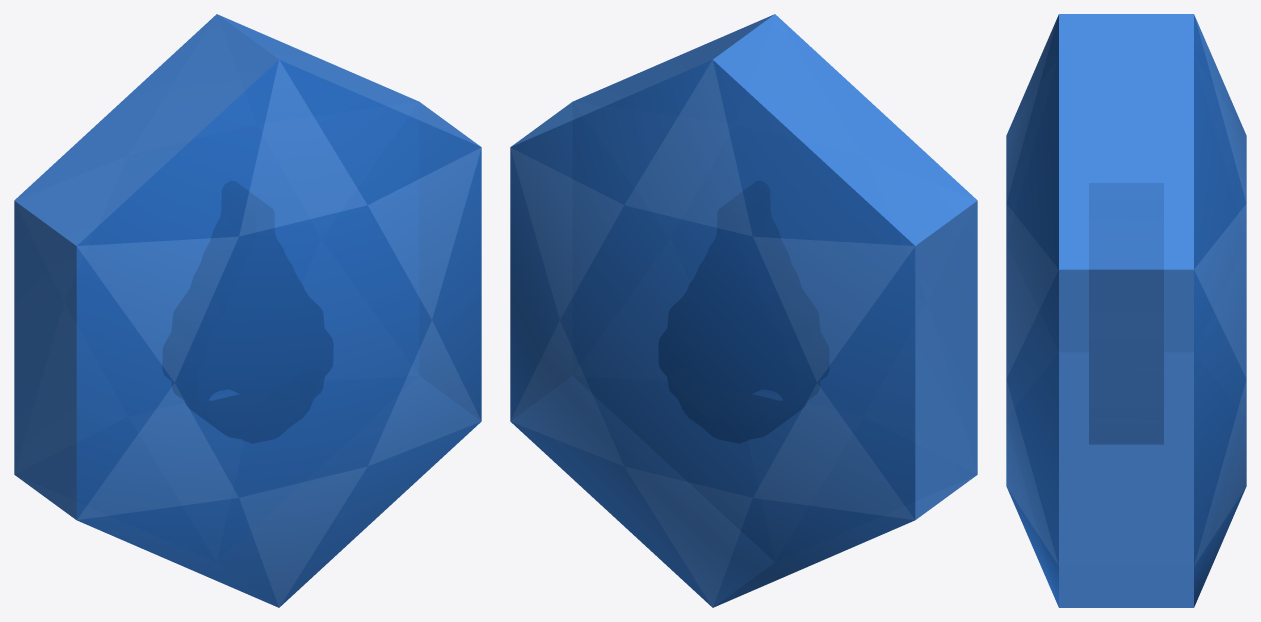
3 renders of one model, left to right at view 1: azimuth 30°, elevation 25°; view 2: azimuth 150°, elevation 25°; view 3: azimuth 270°, elevation 25°, orthographic. The views are drawn at different scales.
Parts seen in each view (by area): view 1: body; view 2: body; view 3: body.
Boxes of the visible parts, x1,y1,x2,y2 form: body: [14, 14, 481, 607]; body: [510, 14, 977, 607]; body: [1006, 14, 1246, 607].
Bounding box in the file's own units: 0.1933 × 0.25 × 0.0916.
Materials: 2 (2 with a texture image).
